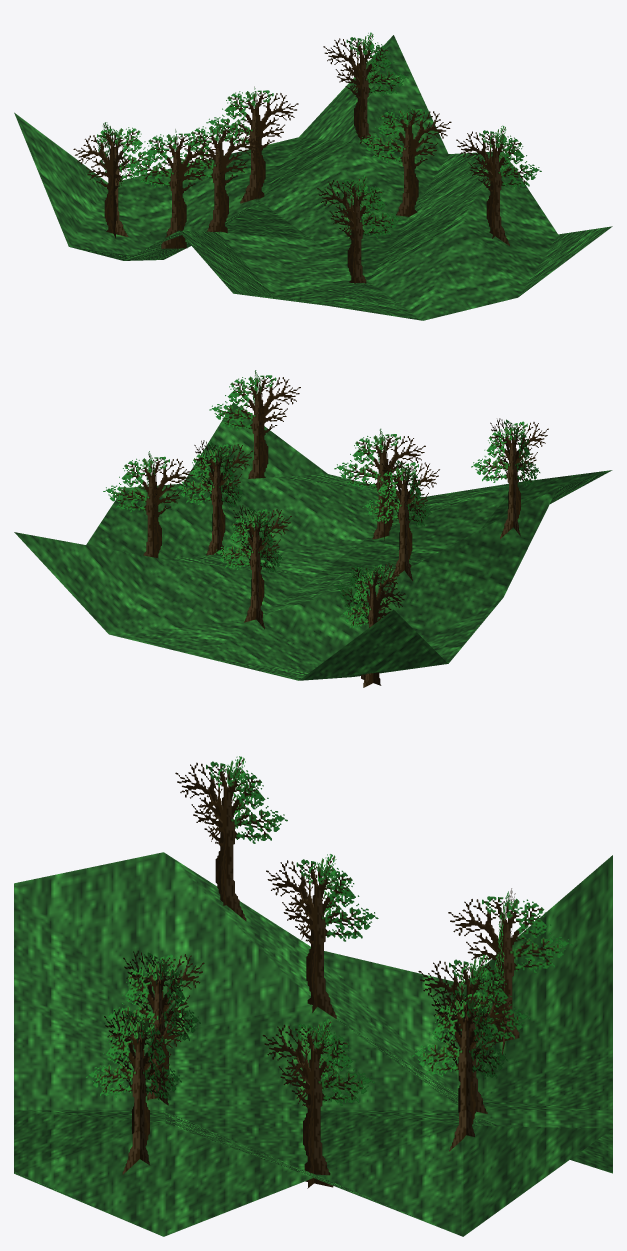
The model's file is forest.obj.
The picture shows the model from 3 angles, top to bottom: view 1: azimuth 30°, elevation 25°; view 2: azimuth 150°, elevation 25°; view 3: azimuth 270°, elevation 25°; orthographic projection. The views are drawn at different scales.
Visible parts, largest first — view 1: Plane; view 2: Plane; view 3: Plane.
Part boxes in pixels (<box>): Plane: <box>14,32,612,320</box>; Plane: <box>14,370,612,687</box>; Plane: <box>14,756,612,1236</box>.
Size of the model in its own units: 12.76 by 6.22 by 11.91.
